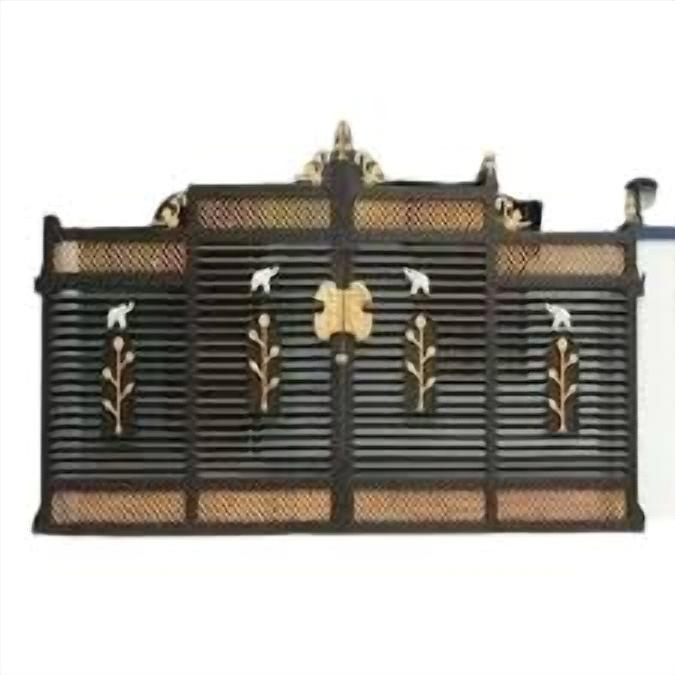Gate: (30, 120, 648, 537)
